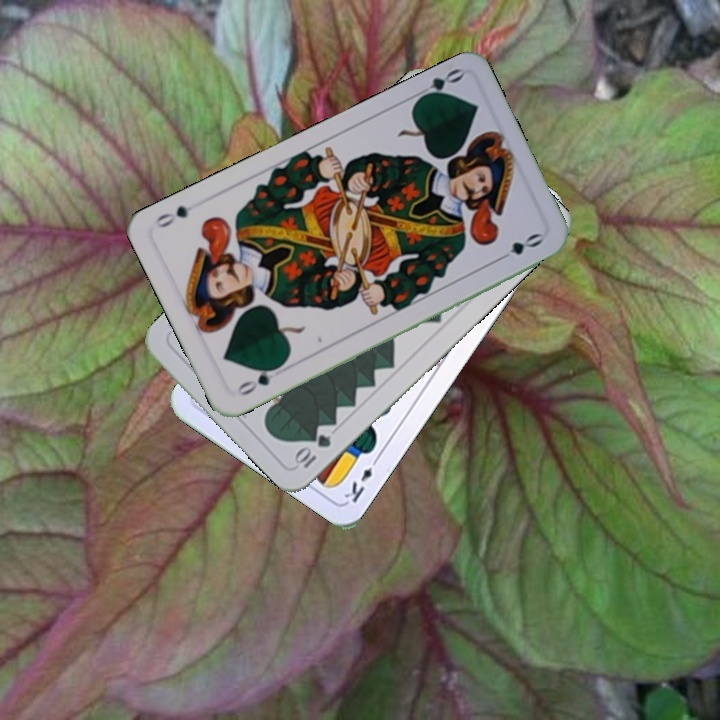EK: (340, 451, 383, 505)
G10: (290, 430, 334, 471)
GO: (409, 64, 466, 104), (231, 361, 285, 398)
